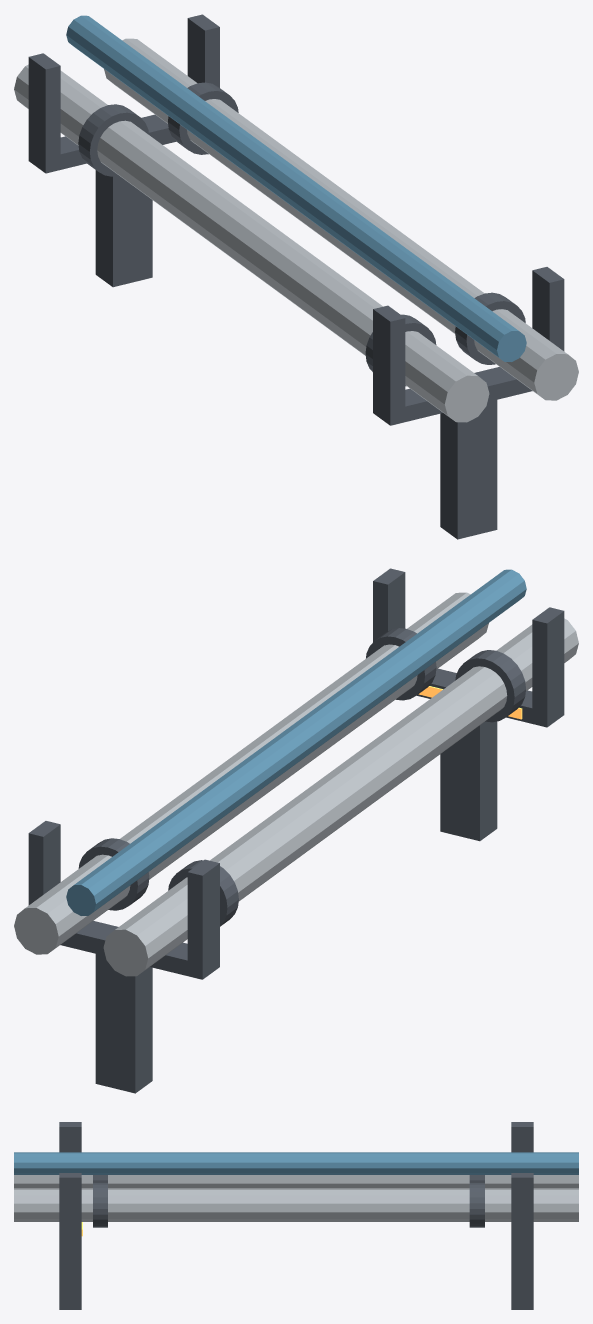
Rendered from spaceship-deck-kit-conduit-straight-852795ba__12575.glb.
3 renders of one model, top to bottom at view 1: azimuth 30°, elevation 25°; view 2: azimuth 150°, elevation 25°; view 3: azimuth 270°, elevation 25°, orthographic. The views are drawn at different scales.
Visible parts, largest first — view 1: conduit-straight; view 2: conduit-straight; view 3: conduit-straight.
Part boxes in pixels (bbox=[...]): conduit-straight: bbox=[14, 14, 578, 539]; conduit-straight: bbox=[14, 568, 578, 1093]; conduit-straight: bbox=[14, 1122, 578, 1309].
Bounding box in the file's own units: 0.6999 × 0.8999 × 3.
